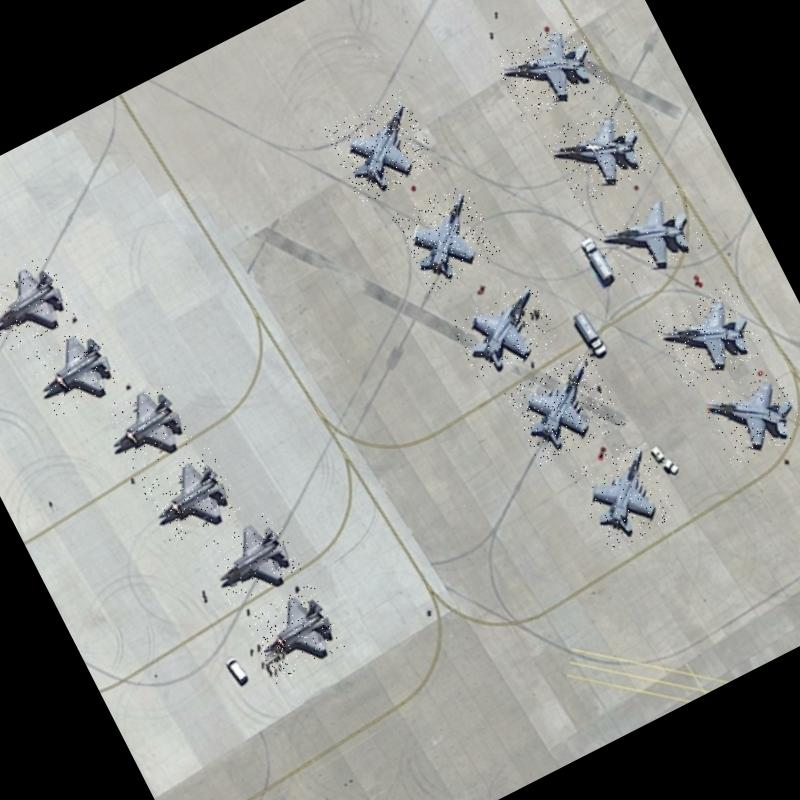A15: (137, 444, 242, 546), (242, 581, 346, 683), (94, 375, 196, 475), (199, 508, 303, 606), (24, 320, 125, 418), (0, 252, 79, 351)
A16: (503, 349, 626, 466), (322, 88, 440, 206), (568, 435, 682, 554), (589, 182, 712, 292), (542, 94, 660, 208), (490, 13, 610, 125), (390, 178, 504, 292), (651, 280, 766, 392), (448, 279, 564, 383), (697, 360, 800, 469)
